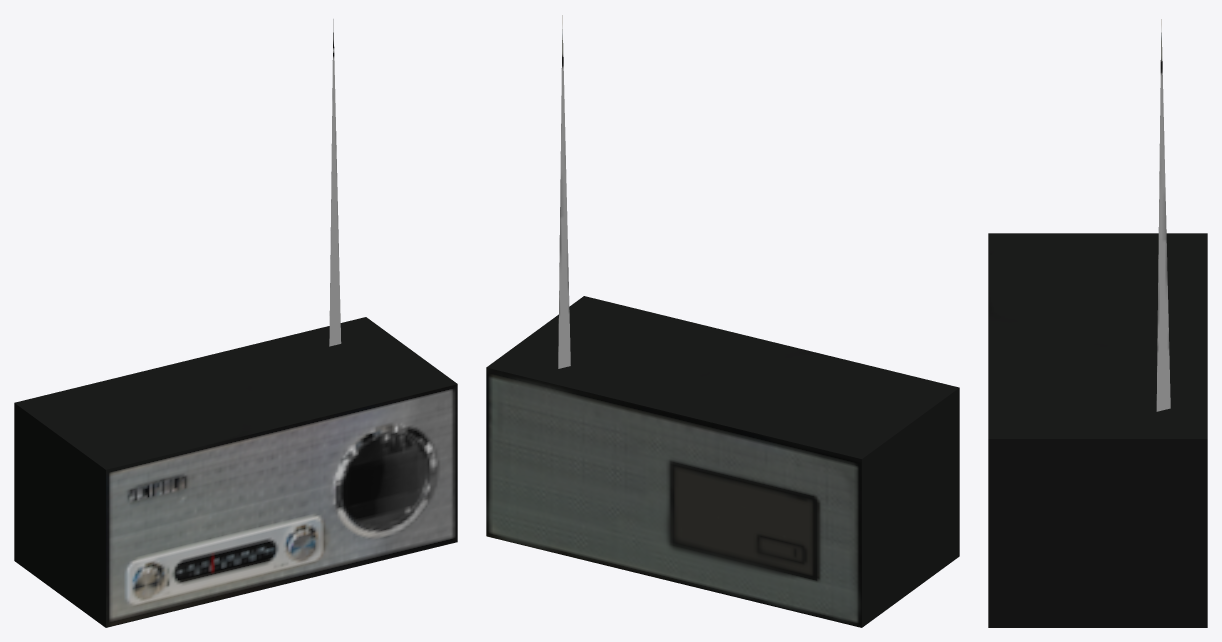
The model's file is Radio_01-col.glb.
3 renders of one model, left to right at view 1: azimuth 30°, elevation 25°; view 2: azimuth 150°, elevation 25°; view 3: azimuth 270°, elevation 25°, orthographic. The views are drawn at different scales.
Parts seen in each view (by area): view 1: Radio_01-col; view 2: Radio_01-col; view 3: Radio_01-col.
Part boxes in pixels (x1=…): Radio_01-col: x1=14, y1=19, x2=457, y2=627; Radio_01-col: x1=486, y1=15, x2=959, y2=627; Radio_01-col: x1=988, y1=19, x2=1207, y2=627.
Bounding box in the file's own units: 1.33 × 1.76 × 0.5996.
Materials: 1 (1 with a texture image).
